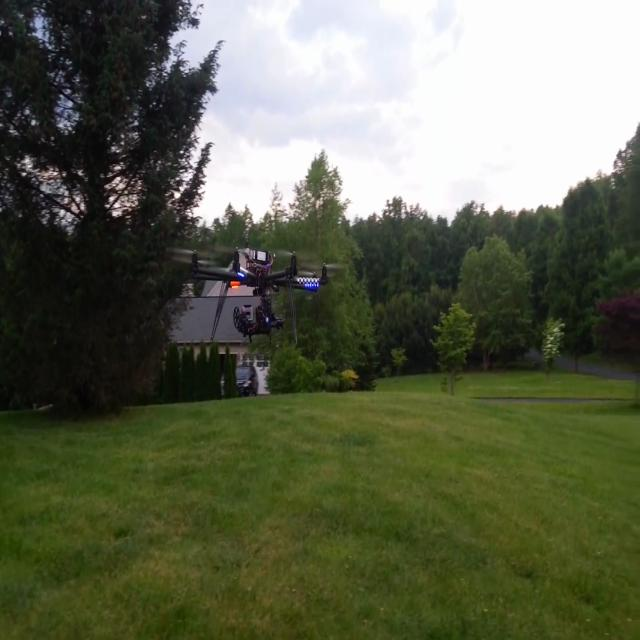drone: (158, 210, 338, 380)
